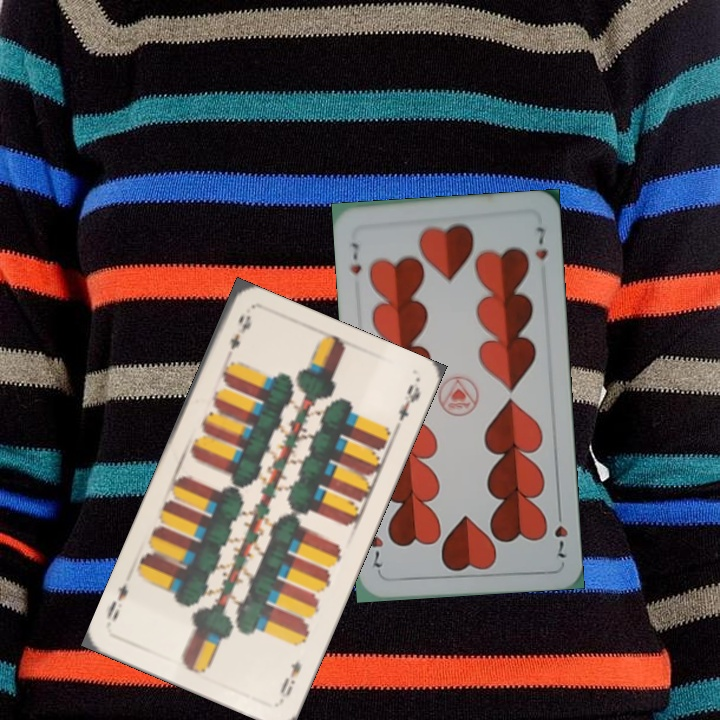E9: (276, 657, 304, 700), (226, 311, 254, 352)
H7: (550, 504, 571, 561), (346, 239, 364, 277)
